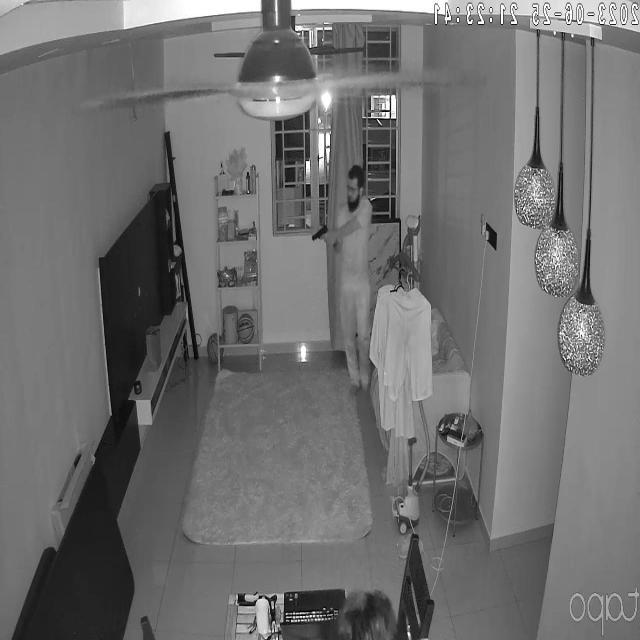Gun: (306, 214, 335, 251)
